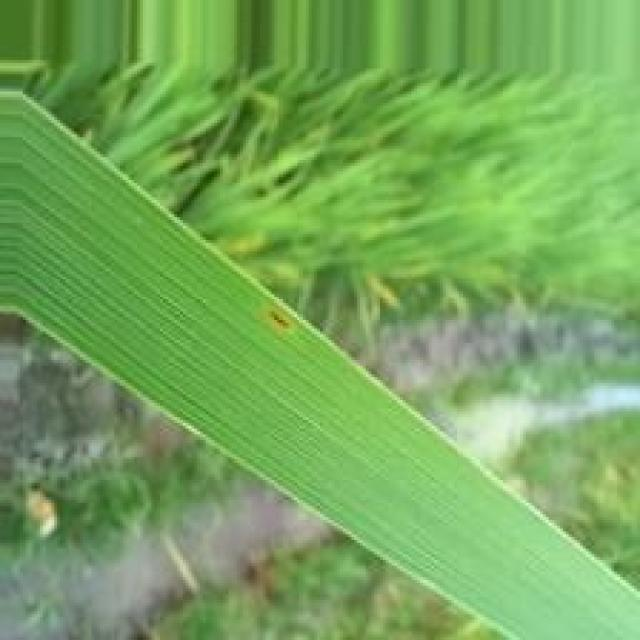Brown_Spot: (262, 306, 302, 337)
